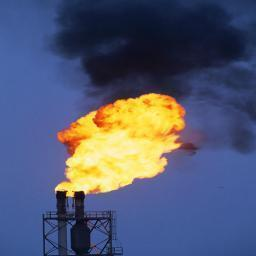fire: (55, 93, 186, 197)
smoke: (40, 0, 255, 151)
